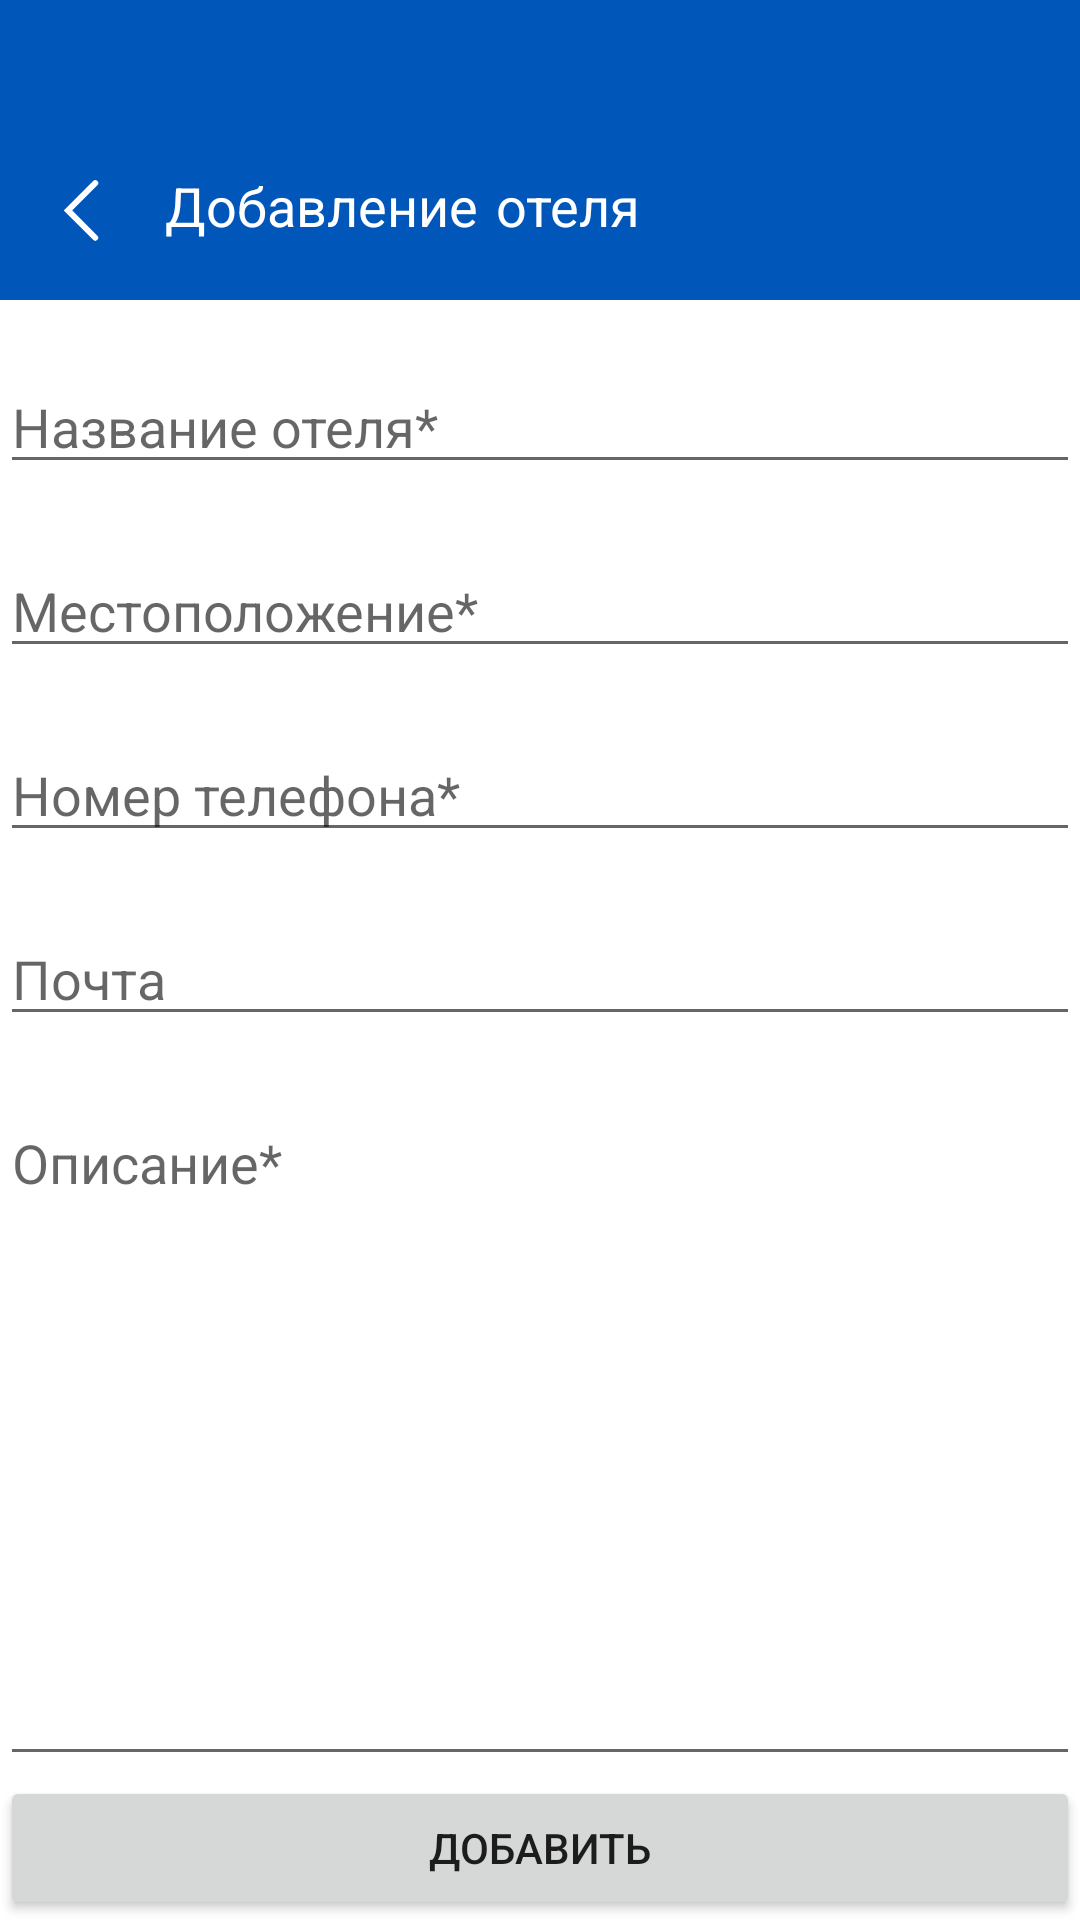

Screen size 1080 × 1920. Icon name, then its box in pixels as (x1, y1, x2, y2):
sign back: (64, 180, 99, 241)
